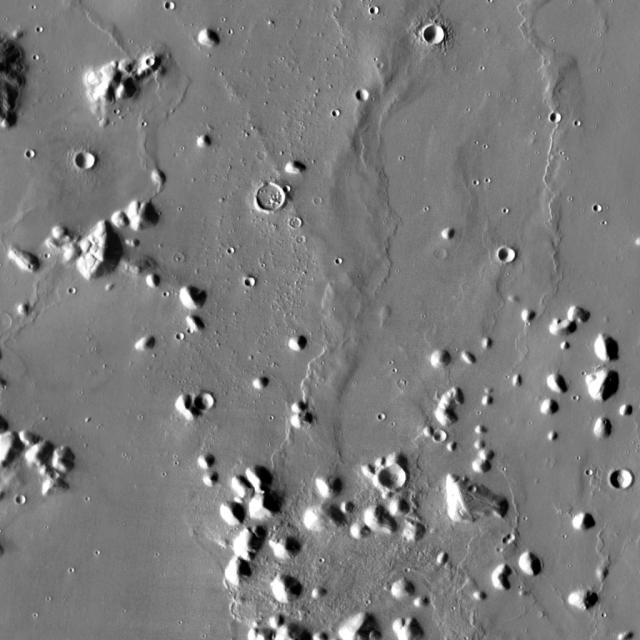crater: (0, 447, 267, 640), (0, 269, 214, 470), (529, 0, 606, 59), (254, 184, 286, 212), (381, 465, 408, 489), (611, 467, 633, 487), (77, 150, 97, 168), (426, 26, 445, 43), (197, 394, 216, 411), (501, 248, 516, 260), (0, 313, 11, 329), (357, 90, 370, 101), (437, 431, 449, 442), (292, 219, 302, 229), (371, 5, 381, 14), (245, 278, 255, 287), (552, 112, 561, 121), (147, 56, 156, 65), (18, 495, 26, 503), (290, 228, 298, 236), (594, 202, 602, 210), (315, 196, 323, 204), (508, 530, 516, 538), (167, 2, 176, 9), (51, 471, 60, 478), (587, 466, 595, 473), (504, 536, 512, 543), (177, 331, 185, 338), (277, 177, 284, 184), (333, 108, 340, 115), (464, 478, 471, 484)
